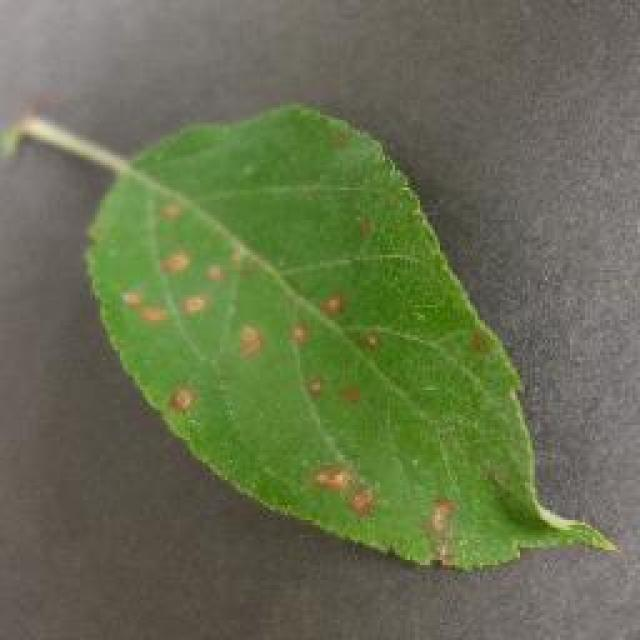apple healthy: (0, 98, 620, 572)
